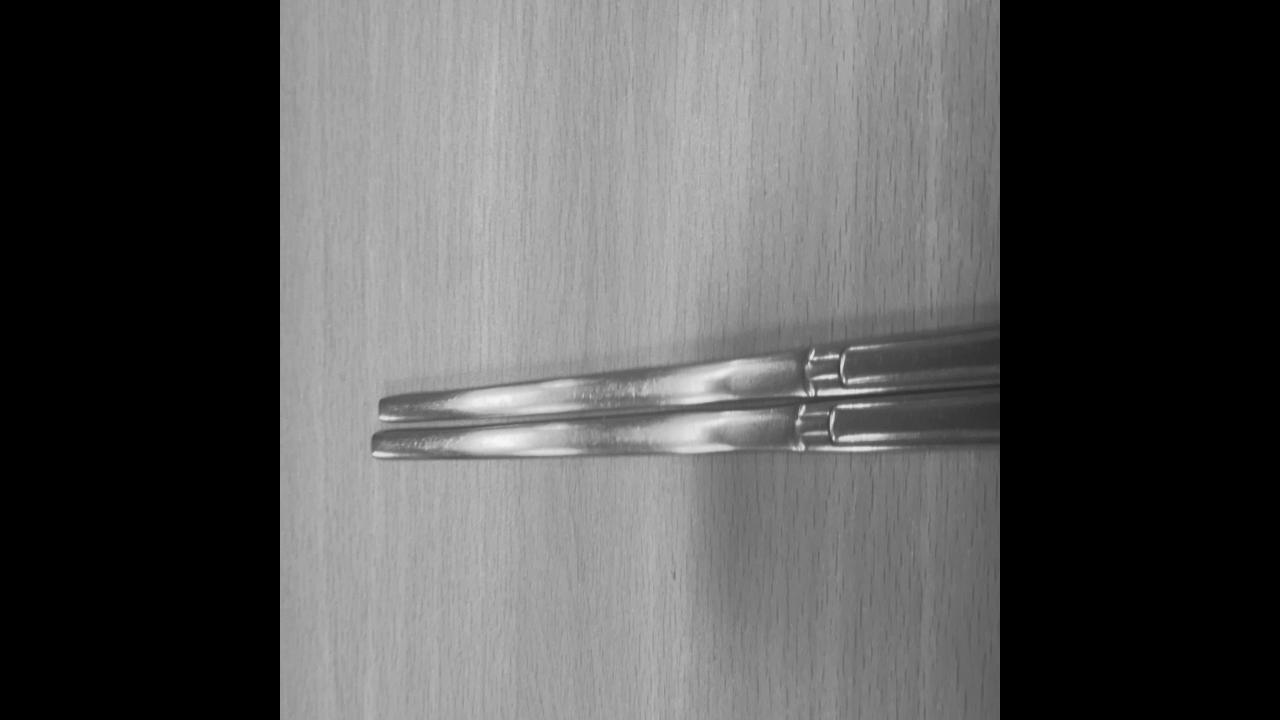chopstick: (370, 326, 1000, 460)
